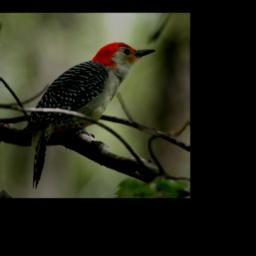Woodpecker: (14, 41, 158, 189)
